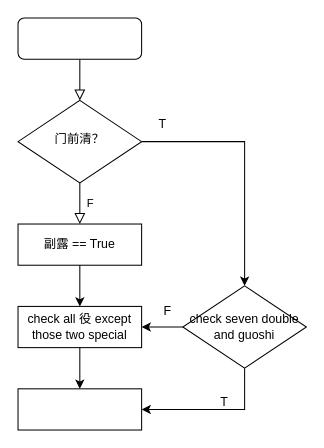
This 324x448 diagram has some shape labels left out. Each missing label, with the box of its shape:
calculate base point: (17, 388, 142, 430)
win(Player): (17, 17, 142, 59)
